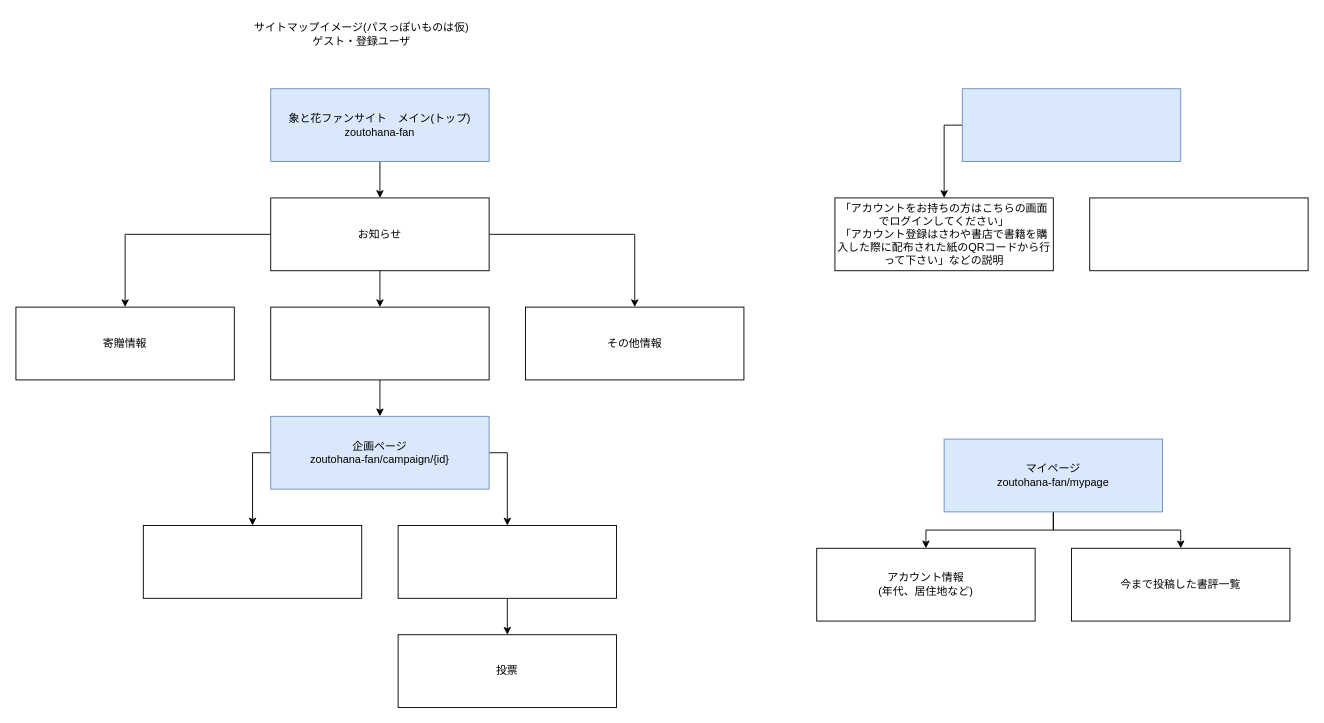
Some shapes in this 1324 by 723 pixel diagram are drawn without their labels. Here are the shapes that lost their labels. From the top down, the centre of each, then its label:
At point 1071,125: "ログイン".
At point 1198,234: "ID、パスワード入力".
At point 379,343: "企画情報".
At point 252,561: "企画概要".
At point 507,561: "書評一覧 (二次選考中)".
